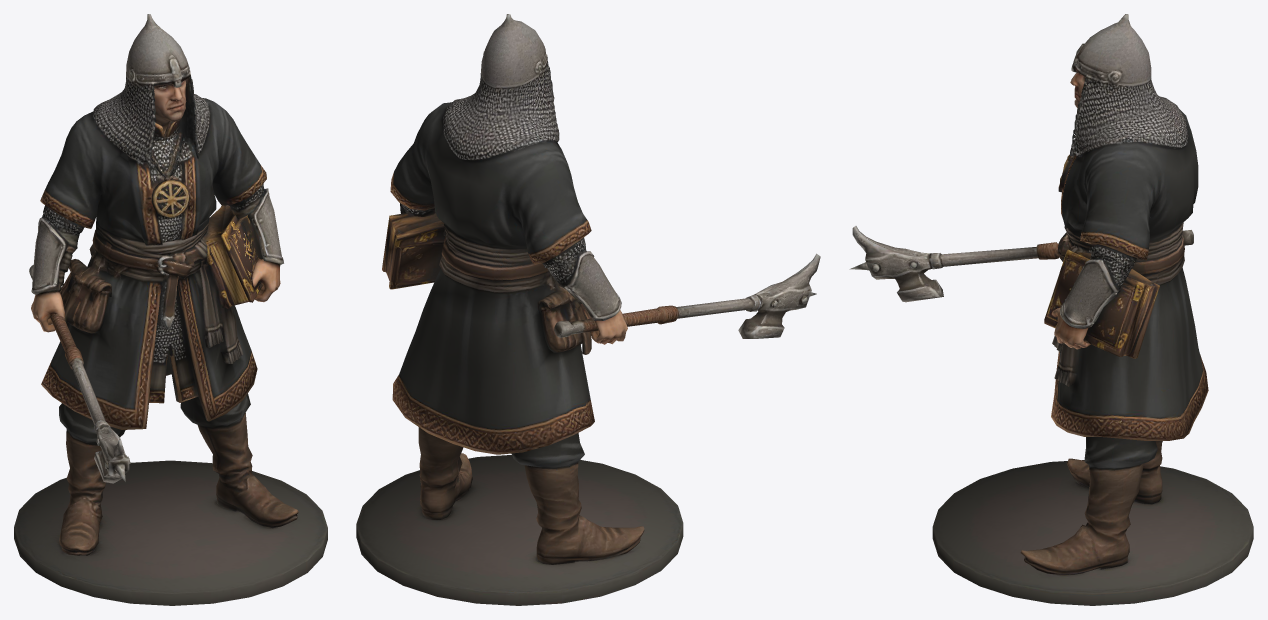
The model's file is cleric_alt1_male.glb.
3 renders of one model, left to right at view 1: azimuth 30°, elevation 25°; view 2: azimuth 150°, elevation 25°; view 3: azimuth 270°, elevation 25°, orthographic. The views are drawn at different scales.
Parts seen in each view (by area): view 1: tripo_node_b5a50f20-820c-47b5-828a-0606a117075b; view 2: tripo_node_b5a50f20-820c-47b5-828a-0606a117075b; view 3: tripo_node_b5a50f20-820c-47b5-828a-0606a117075b.
Boxes of the visible parts, x1,y1,x2,y2 form: tripo_node_b5a50f20-820c-47b5-828a-0606a117075b: [14, 14, 327, 605]; tripo_node_b5a50f20-820c-47b5-828a-0606a117075b: [356, 14, 820, 605]; tripo_node_b5a50f20-820c-47b5-828a-0606a117075b: [849, 14, 1253, 605].
Bounding box in the file's own units: 0.623 × 0.998 × 0.7012.
Materials: 1 (1 with a texture image).
